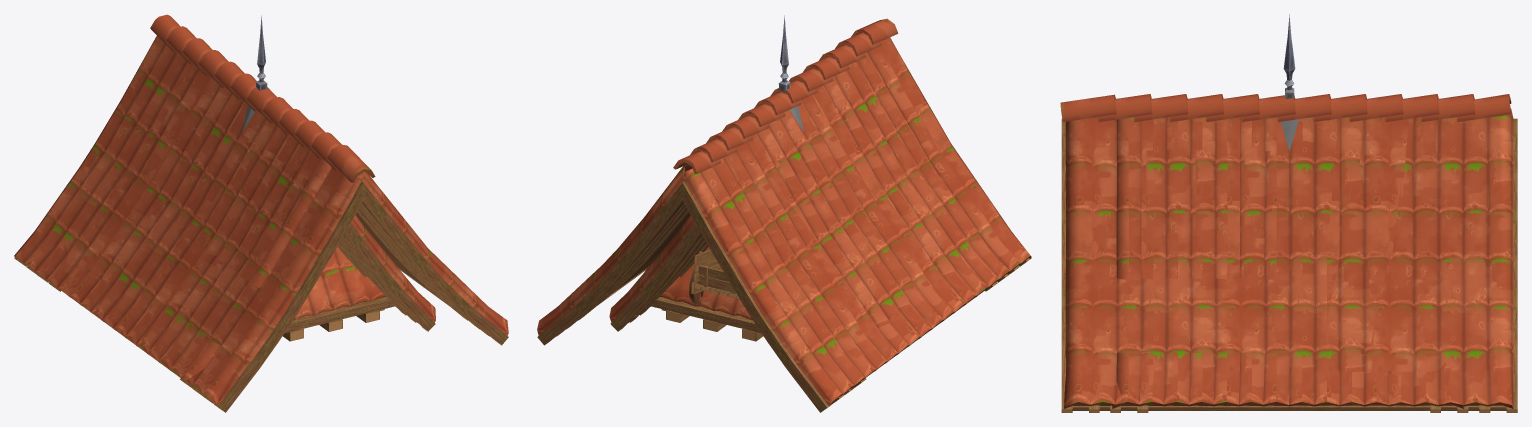
File: medieval.glb
3 renders of one model, left to right at view 1: azimuth 30°, elevation 25°; view 2: azimuth 150°, elevation 25°; view 3: azimuth 270°, elevation 25°, orthographic. The views are drawn at different scales.
Visible parts, largest first — view 1: Roof_RoundTiles_6x8, Roof_RoundTiles_6x6, Roof_Tower_RoundTiles, Roof_RoundTiles_4x6, Roof_RoundTiles_4x4; view 2: Roof_RoundTiles_6x8, Roof_RoundTiles_6x6, Roof_Tower_RoundTiles, Roof_RoundTiles_4x6, Prop_Wagon; view 3: Roof_RoundTiles_6x8, Roof_RoundTiles_6x6, Roof_Tower_RoundTiles.
Part boxes in pixels (x1,y1,x2,y2): Roof_RoundTiles_6x8: (14,14,508,412); Roof_RoundTiles_6x6: (36,26,479,394); Roof_Tower_RoundTiles: (242,15,398,341); Roof_RoundTiles_4x6: (342,215,435,331); Roof_RoundTiles_4x4: (337,239,406,315); Roof_RoundTiles_6x8: (537,18,1031,412); Roof_RoundTiles_6x6: (566,32,1009,394); Roof_Tower_RoundTiles: (645,15,803,341); Roof_RoundTiles_4x6: (609,215,704,331); Prop_Wagon: (689,249,744,306); Roof_RoundTiles_6x8: (1060,94,1517,412); Roof_RoundTiles_6x6: (1098,94,1475,412); Roof_Tower_RoundTiles: (1281,14,1298,150).
Bounding box in the file's own units: 8.25 × 8.91 × 9.68.
Materials: 9 (8 with a texture image).
